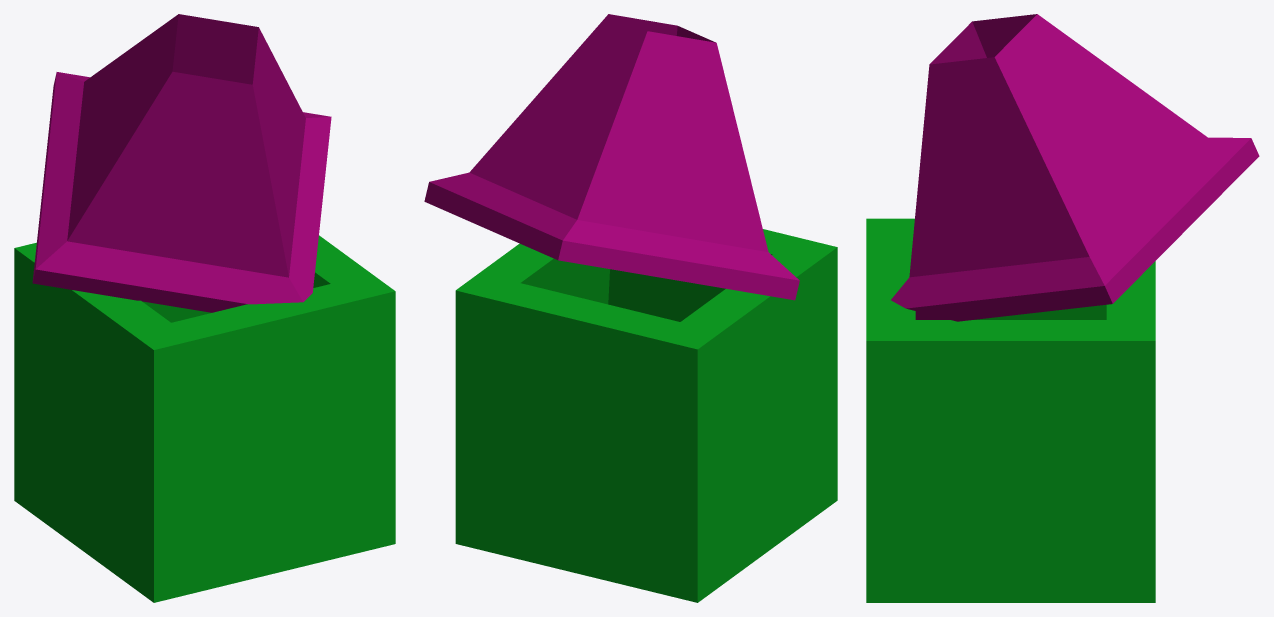
Rendered from AnimatedBox_000128.obj.
3 renders of one model, left to right at view 1: azimuth 30°, elevation 25°; view 2: azimuth 150°, elevation 25°; view 3: azimuth 270°, elevation 25°, orthographic. The views are drawn at different scales.
Parts seen in each view (by area): view 1: Cube, Cube.001; view 2: Cube, Cube.001; view 3: Cube, Cube.001.
Part boxes in pixels (<box>): Cube: <box>14,235,395,602</box>; Cube.001: <box>32,14,331,312</box>; Cube: <box>455,229,837,602</box>; Cube.001: <box>424,14,799,300</box>; Cube: <box>866,218,1155,602</box>; Cube.001: <box>891,14,1259,321</box>.
Bounding box in the file's own units: 2.76 × 3.98 × 2.72.
